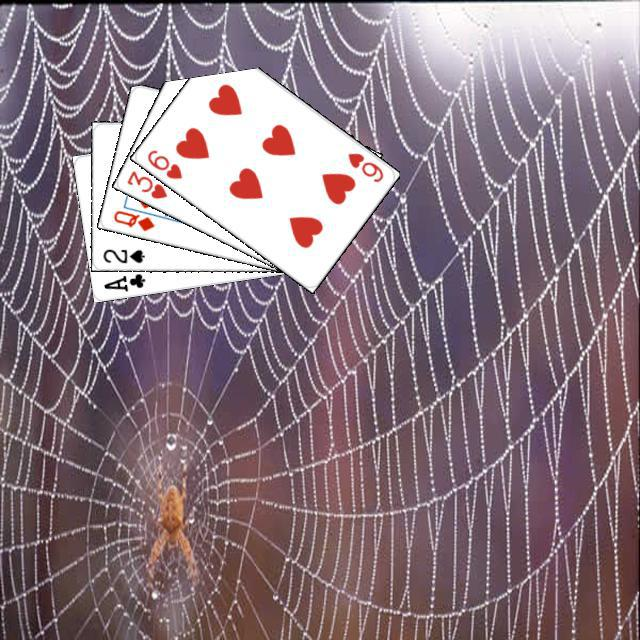2s: (98, 244, 146, 265)
3h: (122, 166, 169, 201)
6h: (142, 145, 184, 181), (343, 148, 385, 184)
Ac: (99, 268, 147, 293)
Qd: (109, 205, 156, 233)
